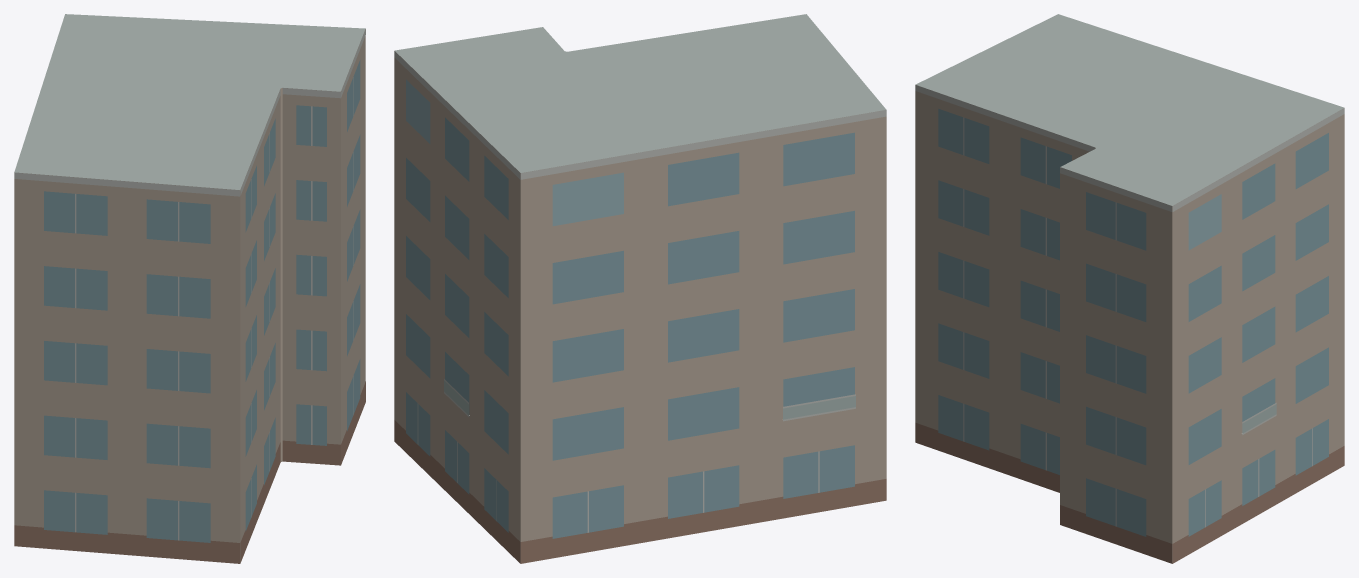
File: survey-upis-32615346.glb
3 renders of one model, left to right at view 1: azimuth 30°, elevation 25°; view 2: azimuth 150°, elevation 25°; view 3: azimuth 270°, elevation 25°, orthographic. The views are drawn at different scales.
Parts seen in each view (by area): view 1: survey-upis-32615346.tmp; view 2: survey-upis-32615346.tmp; view 3: survey-upis-32615346.tmp.
Boxes of the visible parts, x1,y1,x2,y2 form: survey-upis-32615346.tmp: [14, 14, 365, 563]; survey-upis-32615346.tmp: [394, 14, 886, 563]; survey-upis-32615346.tmp: [915, 14, 1344, 563].
Size of the model in its own units: 16.24 by 14.1 by 15.34.
